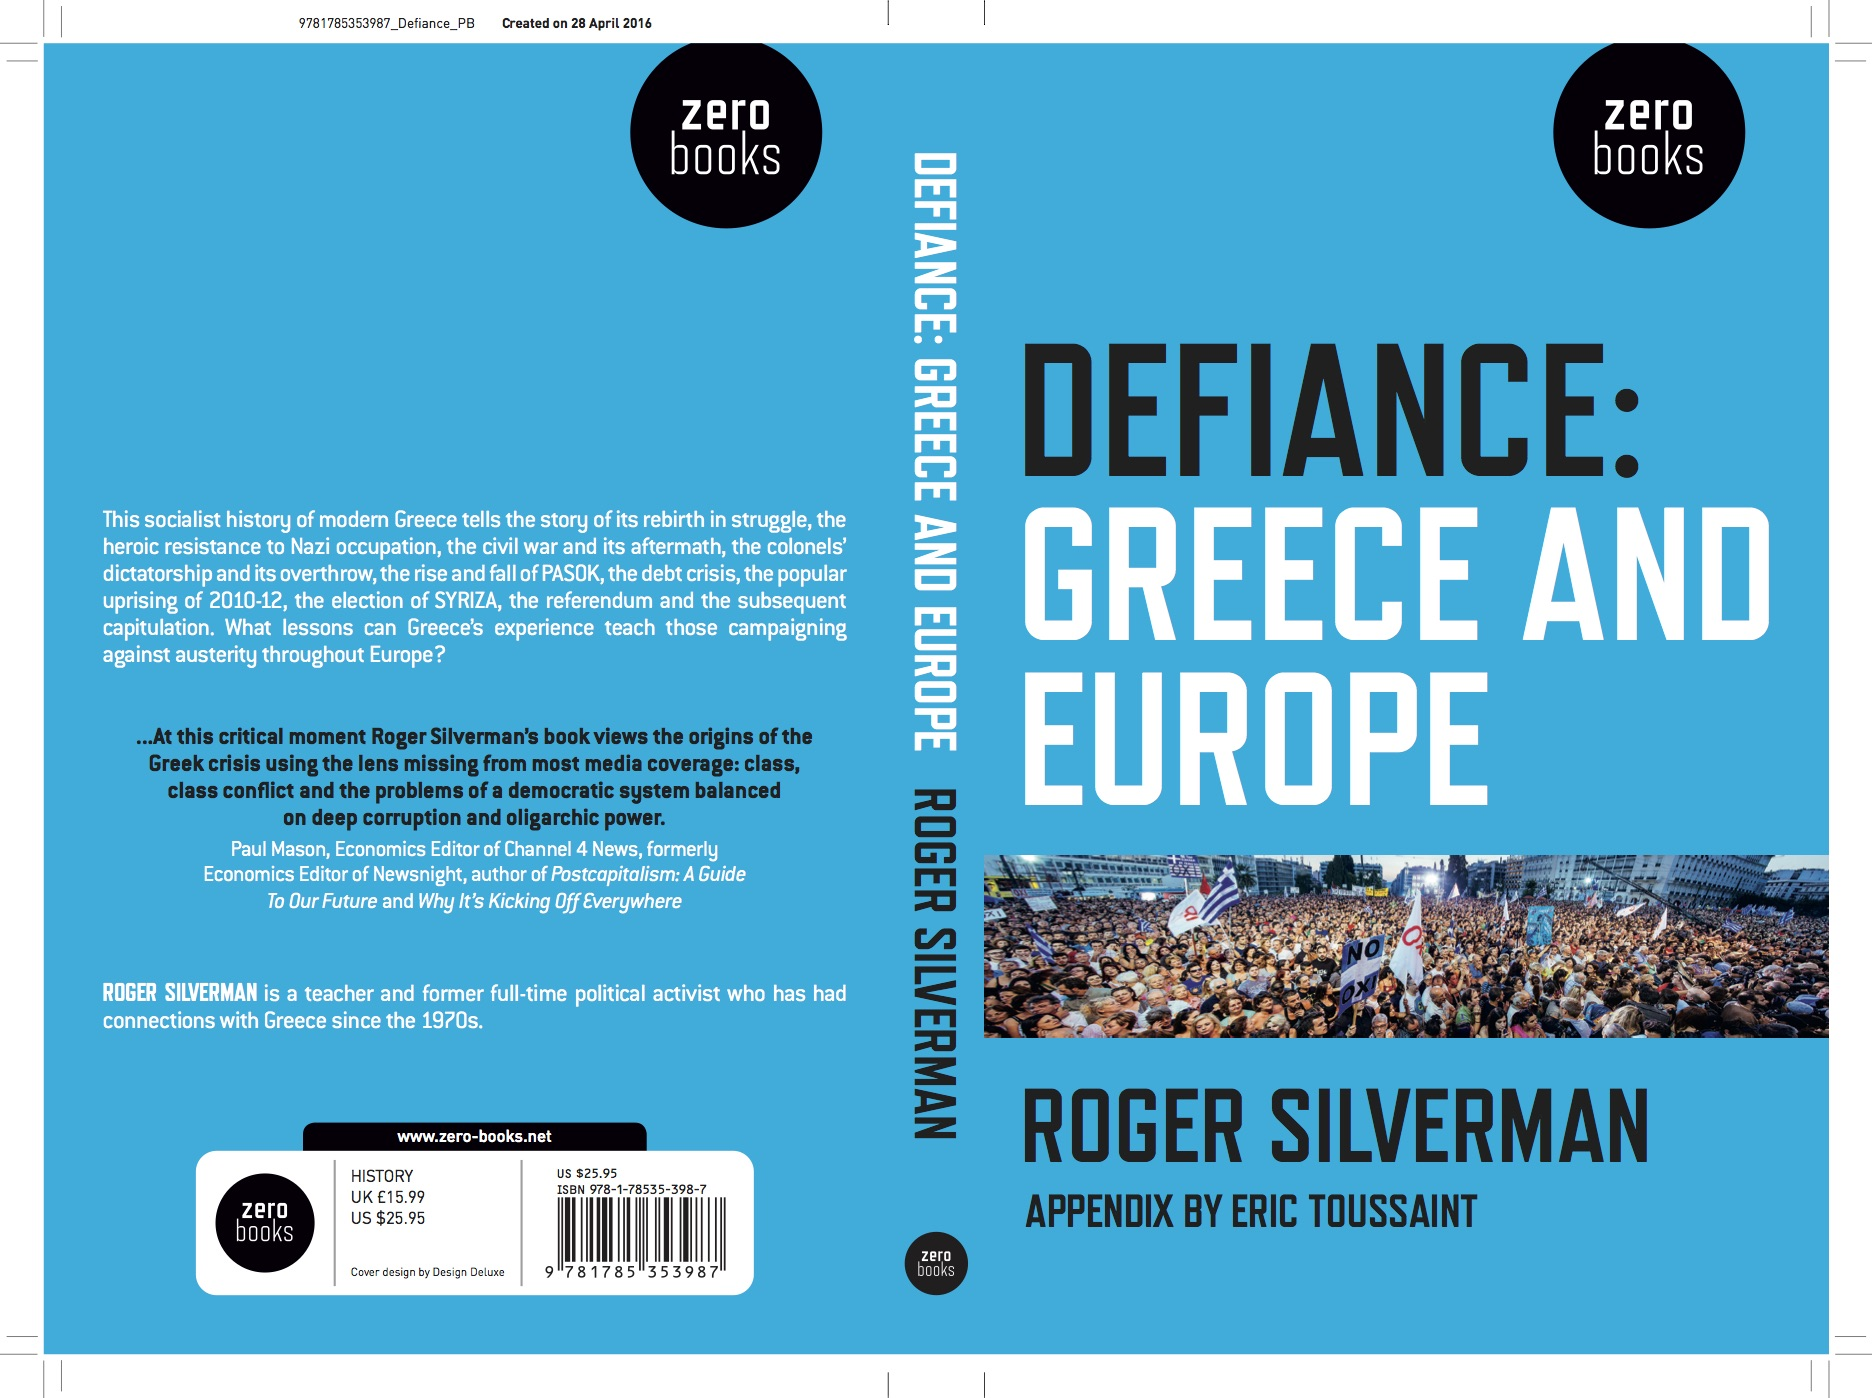barcode: (530, 1154, 741, 1292)
